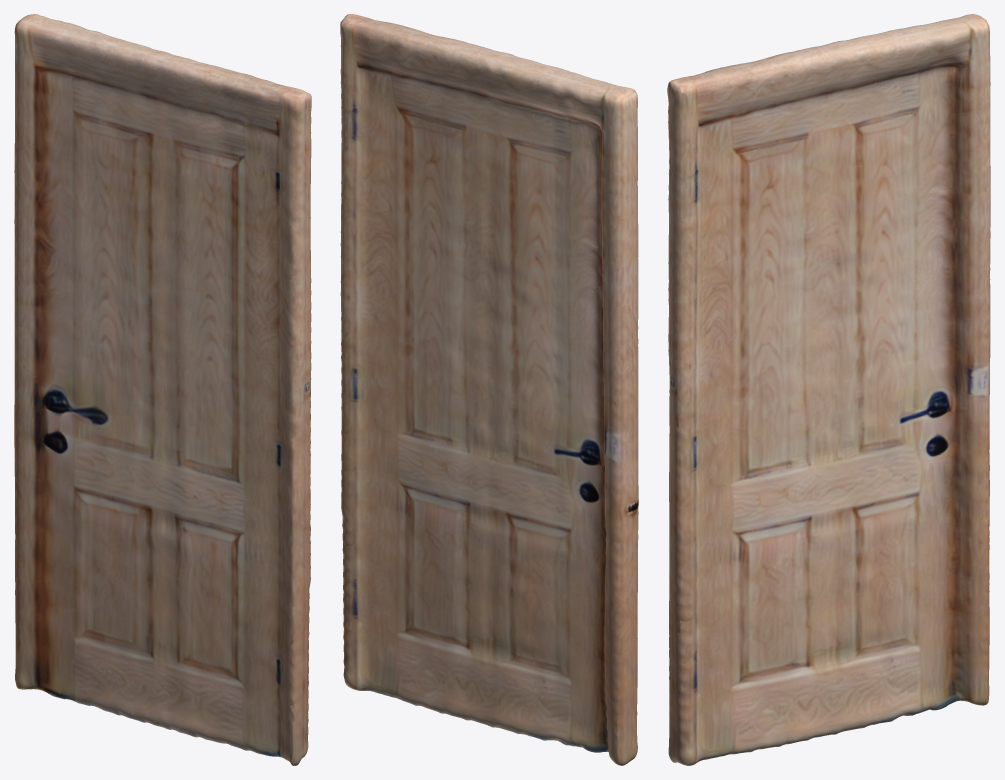
The model's file is door.glb.
The picture shows the model from 3 angles, left to right: view 1: azimuth 30°, elevation 25°; view 2: azimuth 210°, elevation 25°; view 3: azimuth 270°, elevation 25°; orthographic projection. The views are drawn at different scales.
Parts seen in each view (by area): view 1: geometry_0; view 2: geometry_0; view 3: geometry_0.
Boxes of the visible parts, <box> form: geometry_0: <box>14,14,311,765</box>; geometry_0: <box>340,14,638,765</box>; geometry_0: <box>667,14,990,765</box>.
Size of the model in its own units: 0.2427 by 1.02 by 0.4334.
1 material, 1 textured.
